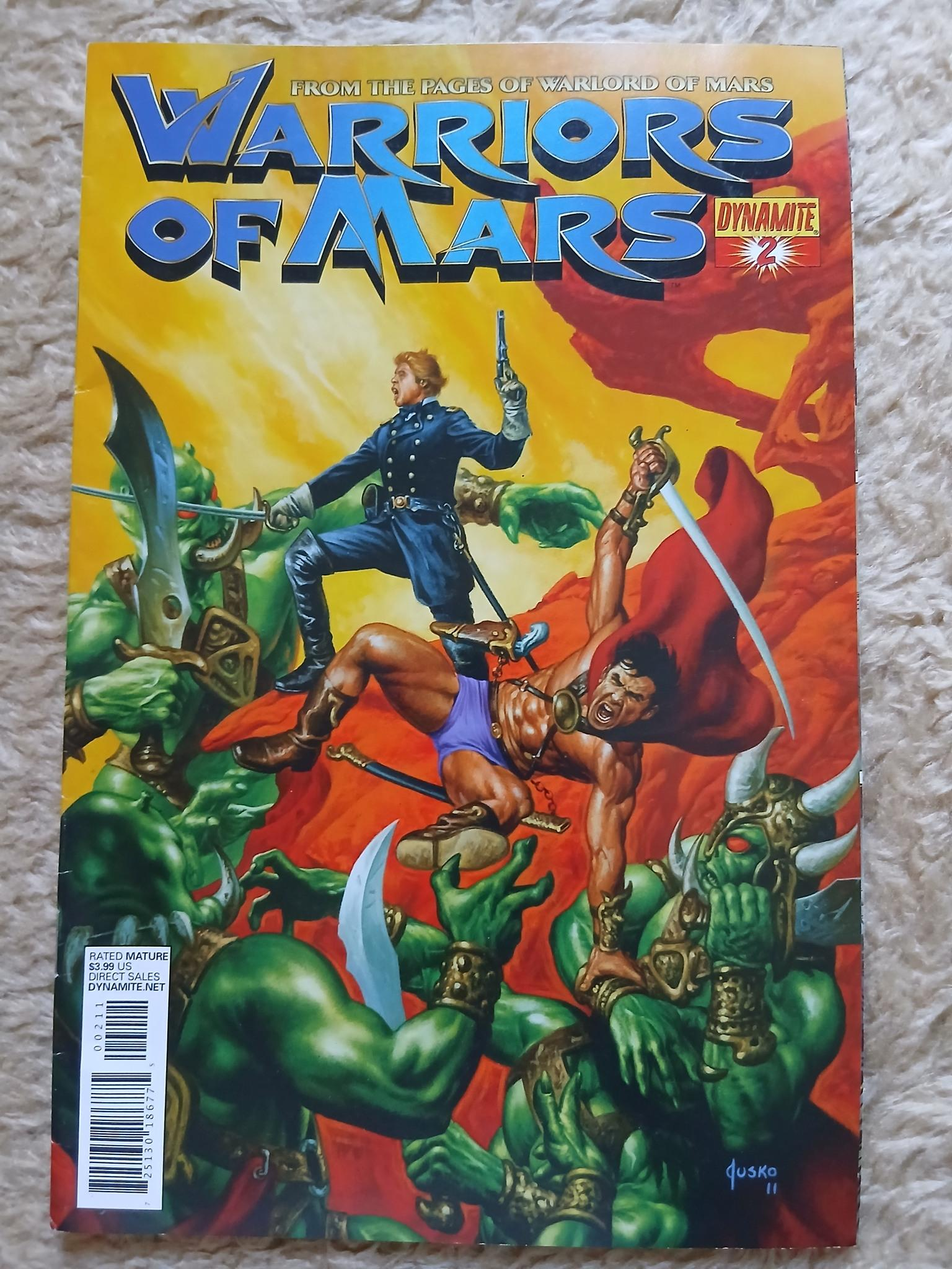comic: (52, 40, 868, 1248)
